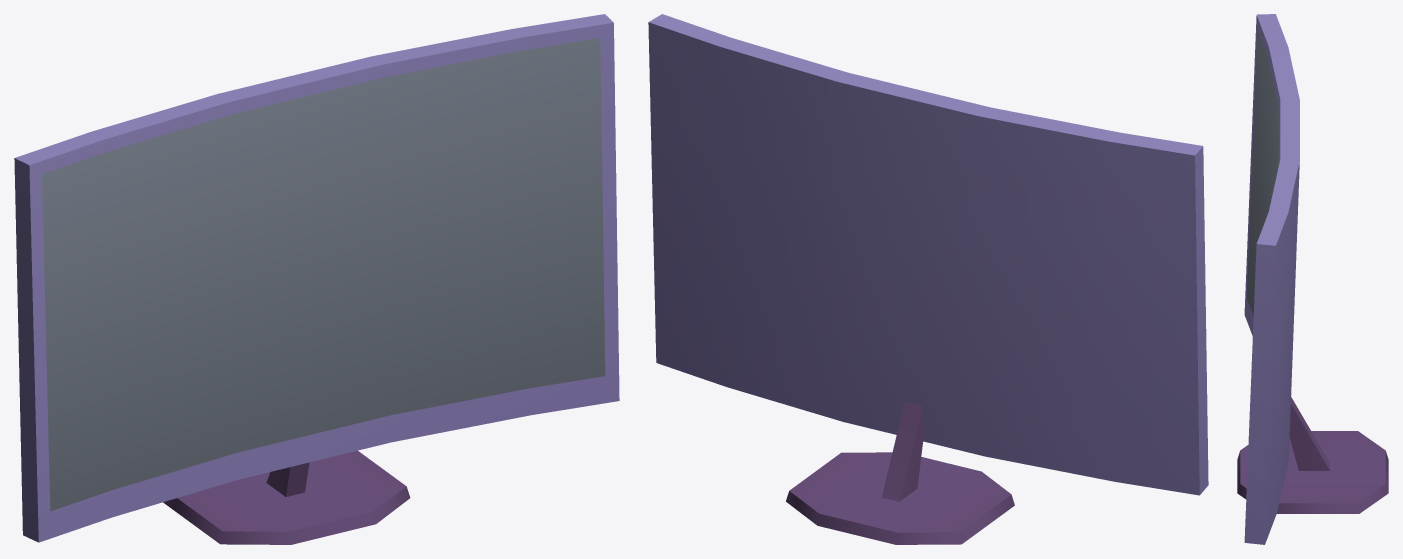
File: screen2.fbx
3 renders of one model, left to right at view 1: azimuth 30°, elevation 25°; view 2: azimuth 150°, elevation 25°; view 3: azimuth 270°, elevation 25°, orthographic. The views are drawn at different scales.
Parts seen in each view (by area): view 1: screen2; view 2: screen2; view 3: screen2.
Part boxes in pixels (x1,y1,x2,y2): screen2: (14, 14, 619, 544); screen2: (648, 14, 1208, 544); screen2: (1237, 14, 1388, 544).
Size of the model in its own units: 136 by 95.06 by 37.56.
